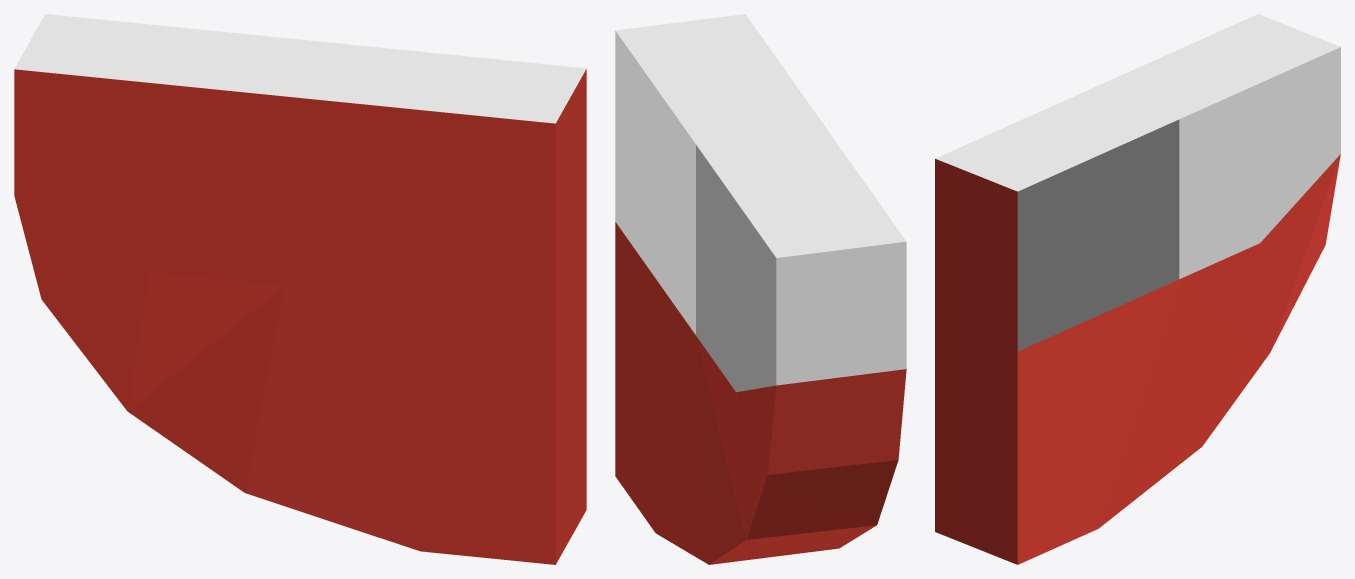
Rendered from group970131559_lev3.002.glb.
3 renders of one model, left to right at view 1: azimuth 30°, elevation 25°; view 2: azimuth 150°, elevation 25°; view 3: azimuth 270°, elevation 25°, orthographic. The views are drawn at different scales.
Parts seen in each view (by area): view 1: group970131559_lev3.002; view 2: group970131559_lev3.002; view 3: group970131559_lev3.002.
Part boxes in pixels (x1,y1,x2,y2): group970131559_lev3.002: (14, 14, 586, 564); group970131559_lev3.002: (615, 14, 906, 564); group970131559_lev3.002: (935, 14, 1340, 564).
Size of the model in its own units: 0.7847 by 0.7689 by 0.7577.
